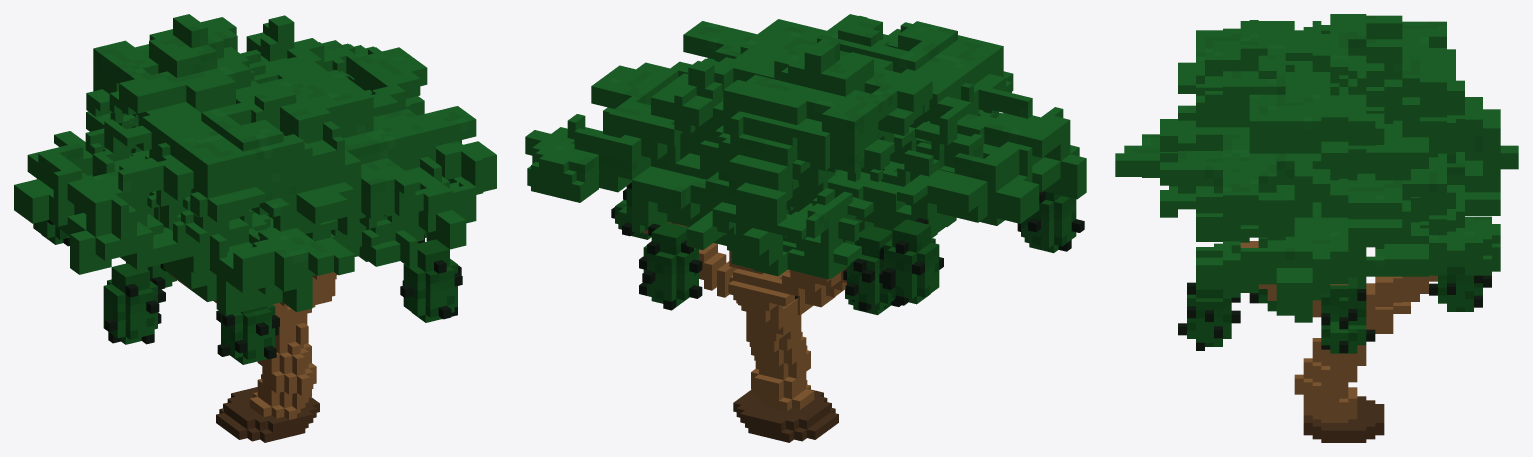
File: Arbórea Exótica - Graviola.obj
The picture shows the model from 3 angles, left to right: view 1: azimuth 30°, elevation 25°; view 2: azimuth 150°, elevation 25°; view 3: azimuth 270°, elevation 25°; orthographic projection. The views are drawn at different scales.
Bounding box in the file's own units: 5.4 × 4.7 × 4.5.
1 material, 1 textured.
